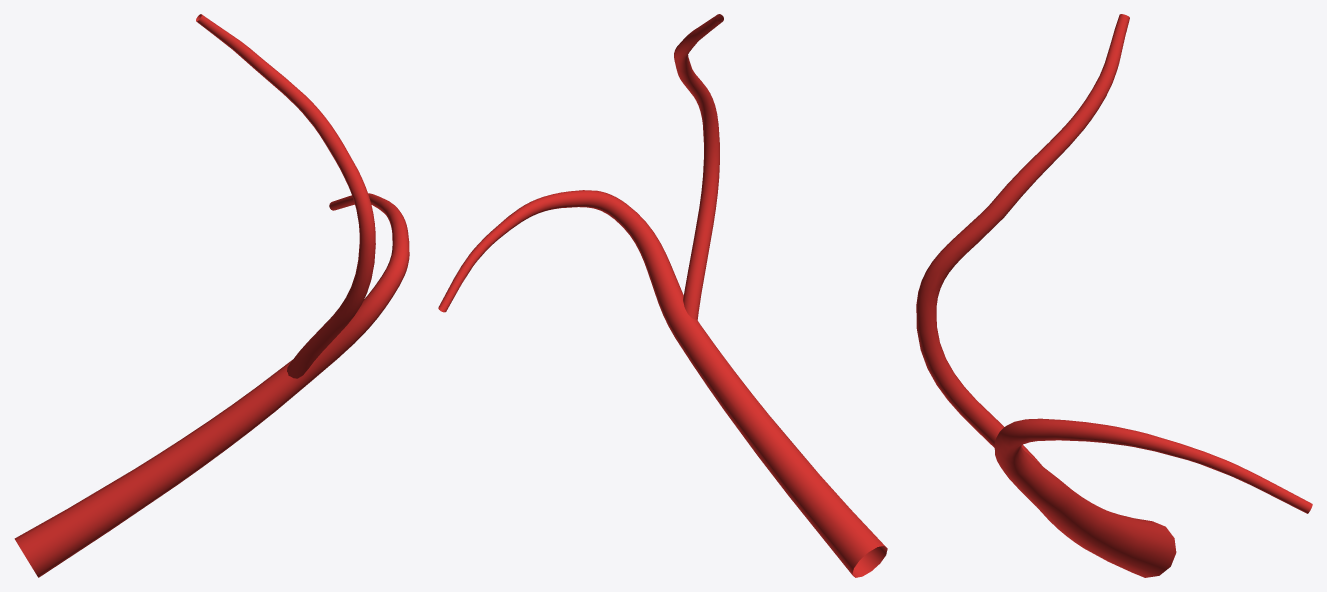
File: circulatorio-anterior-circumflex-humeral-artery-l.glb
3 renders of one model, left to right at view 1: azimuth 30°, elevation 25°; view 2: azimuth 150°, elevation 25°; view 3: azimuth 270°, elevation 25°, orthographic. The views are drawn at different scales.
Visible parts, largest first — view 1: Anterior circumflex humeral artery.l; view 2: Anterior circumflex humeral artery.l; view 3: Anterior circumflex humeral artery.l.
Part boxes in pixels (bbox=[...]): Anterior circumflex humeral artery.l: bbox=[14, 14, 409, 577]; Anterior circumflex humeral artery.l: bbox=[438, 14, 887, 577]; Anterior circumflex humeral artery.l: bbox=[916, 14, 1312, 577].
Size of the model in its own units: 0.0484 by 0.0634 by 0.0346.
